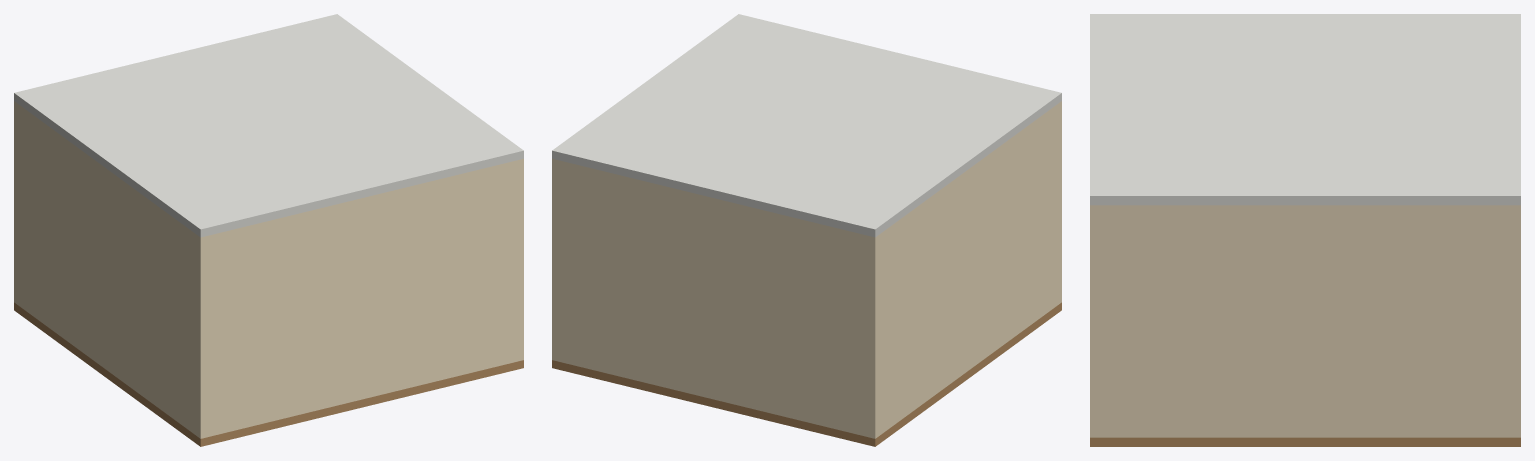
File: room_cube.glb
3 views of the same model, side by side, from view 1: azimuth 30°, elevation 25°; view 2: azimuth 150°, elevation 25°; view 3: azimuth 270°, elevation 25° (orthographic). The views are drawn at different scales.
Parts seen in each view (by area): view 1: wall_s, ceiling_slab, wall_w, floor_slab, wall_n; view 2: wall_n, ceiling_slab, wall_w, floor_slab, wall_s; view 3: wall_e, ceiling_slab, floor_slab, wall_n, wall_s.
Part boxes in pixels (<box>): wall_s: <box>196,158,523,438</box>; ceiling_slab: <box>14,14,523,237</box>; wall_w: <box>18,104,196,435</box>; floor_slab: <box>14,302,523,446</box>; wall_n: <box>14,101,18,304</box>; wall_n: <box>552,158,879,438</box>; ceiling_slab: <box>552,14,1061,237</box>; wall_w: <box>879,104,1057,435</box>; floor_slab: <box>552,302,1061,446</box>; wall_s: <box>1057,101,1061,304</box>; wall_e: <box>1100,205,1510,437</box>; ceiling_slab: <box>1090,14,1520,205</box>; floor_slab: <box>1090,437,1520,446</box>; wall_n: <box>1510,205,1520,437</box>; wall_s: <box>1090,205,1100,437</box>.
Size of what is drawn, in the model's own units: 420 by 270 by 420.
